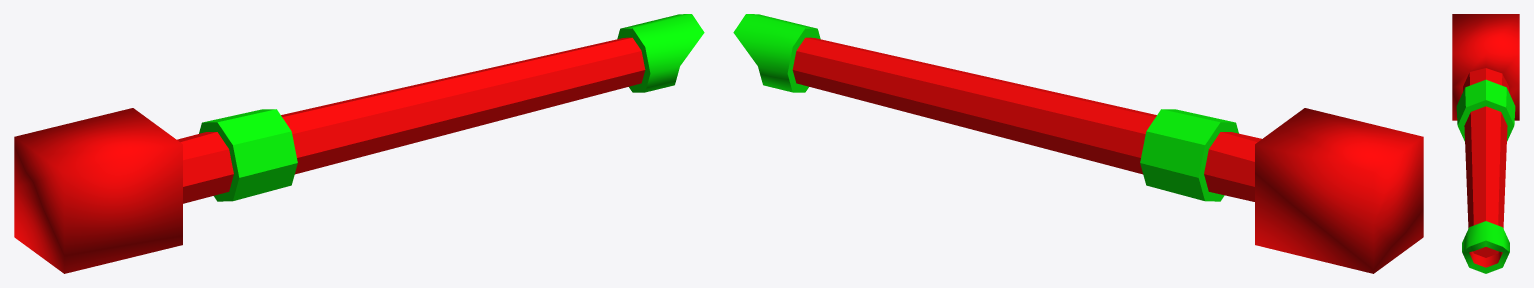
File: TankCannon.fbx
3 renders of one model, left to right at view 1: azimuth 30°, elevation 25°; view 2: azimuth 150°, elevation 25°; view 3: azimuth 270°, elevation 25°, orthographic. The views are drawn at different scales.
Visible parts, largest first — view 1: Cylinder; view 2: Cylinder; view 3: Cylinder.
Boxes of the visible parts, x1,y1,x2,y2 form: Cylinder: [14, 14, 704, 273]; Cylinder: [733, 14, 1423, 273]; Cylinder: [1452, 14, 1519, 273].
Bounding box in the file's own units: 2199 × 324 × 292.
